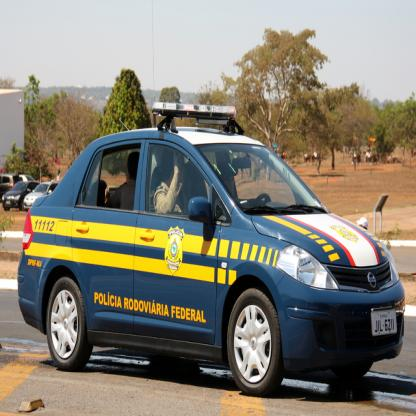Car: (16, 112, 407, 389), (3, 180, 38, 213), (26, 183, 57, 210)
